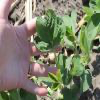Soyabean leaf: (36, 8, 57, 43)
